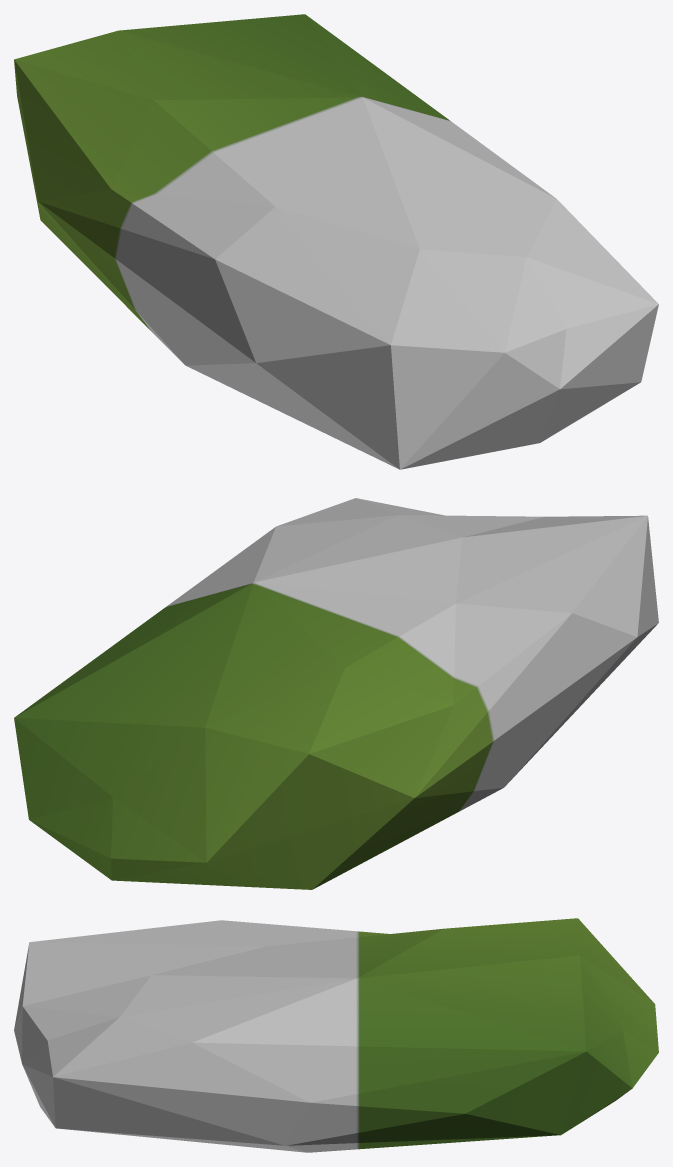
File: Gravestone_03.fbx
3 views of the same model, one above another, from view 1: azimuth 30°, elevation 25°; view 2: azimuth 150°, elevation 25°; view 3: azimuth 270°, elevation 25° (orthographic). The views are drawn at different scales.
Parts seen in each view (by area): view 1: Gravestone_03; view 2: Gravestone_03; view 3: Gravestone_03.
Part boxes in pixels (x1=…): Gravestone_03: x1=14, y1=14, x2=658, y2=469; Gravestone_03: x1=14, y1=498, x2=658, y2=889; Gravestone_03: x1=14, y1=918, x2=658, y2=1152.
Size of the model in its own units: 1.97 by 1.09 by 3.86.
